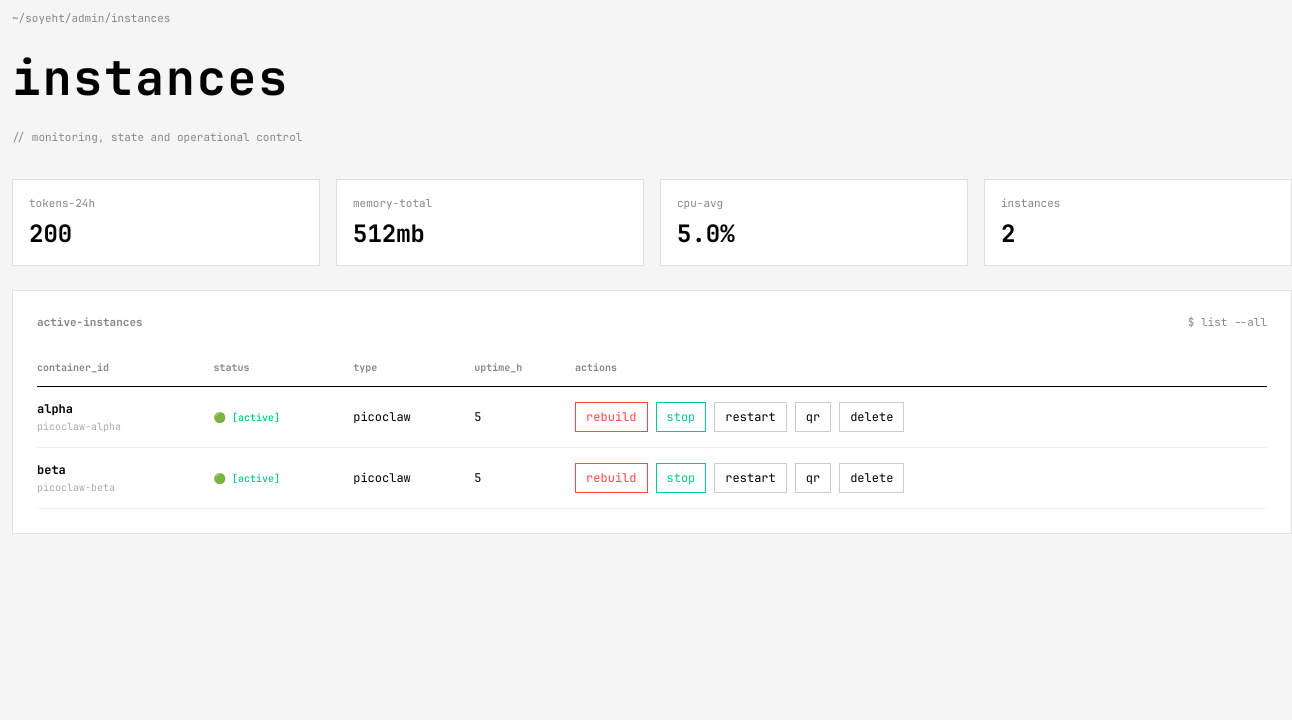
InstancesPage › action on one instance does not disable buttons of another
Check: the text "picoclaw-alpha" is shown, box [37,420,121,433]
Click restart on inst-1 (first row)
Click the button "restart" in the row of "picoclaw-alpha" at (750, 417), box [714,402,787,432]
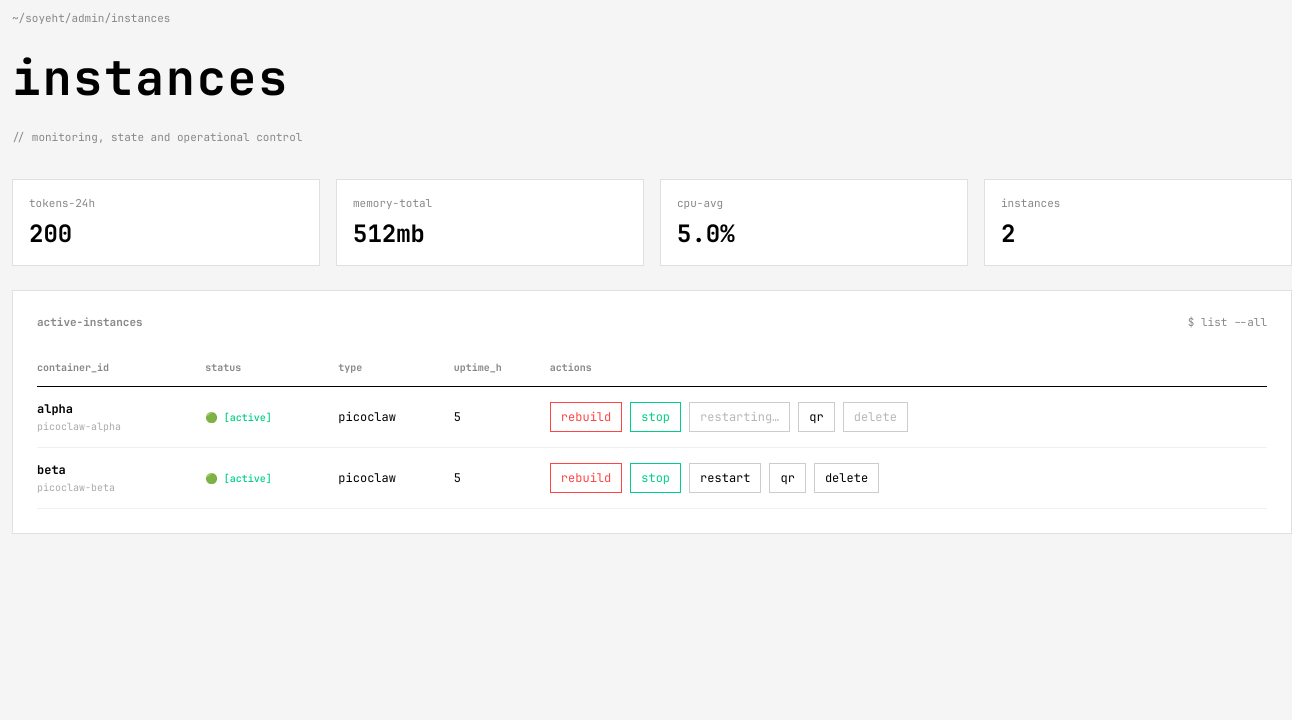
Check: the button "restart" is enabled, box [689,463,762,493]
Check: the button "restarting…" is shown, box [689,402,790,432]
